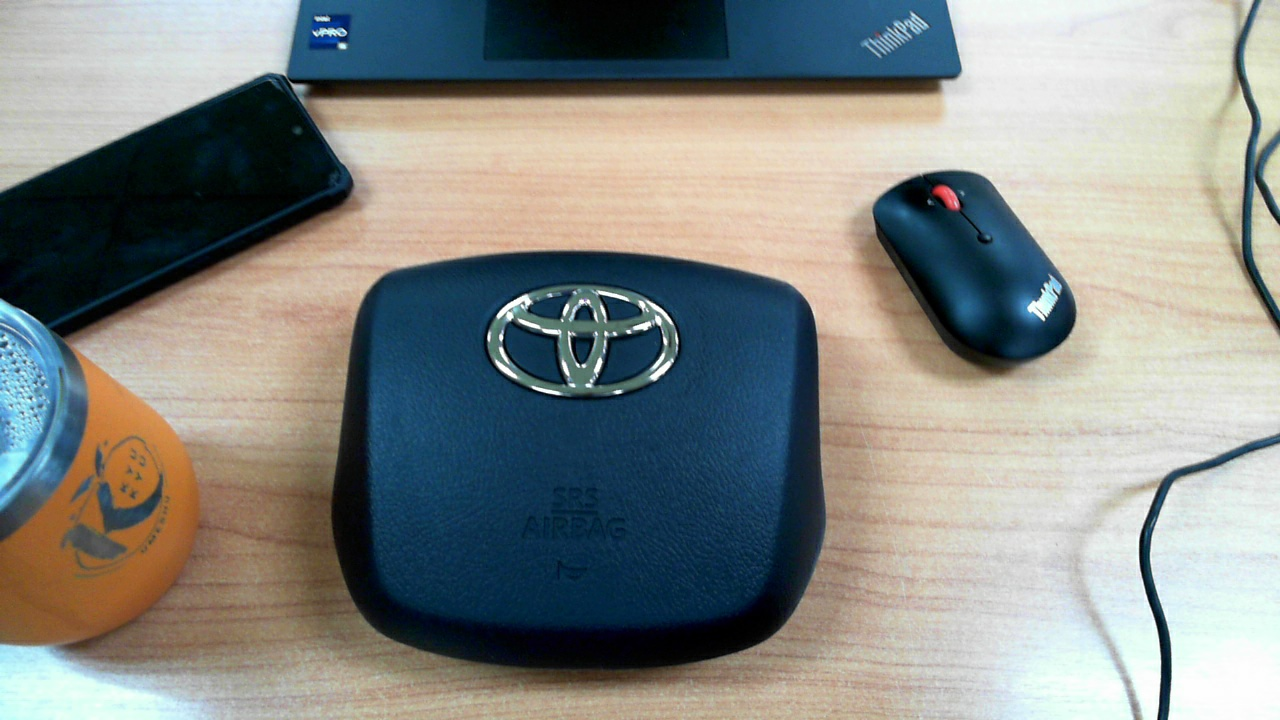Airbag: (321, 227, 859, 616)
